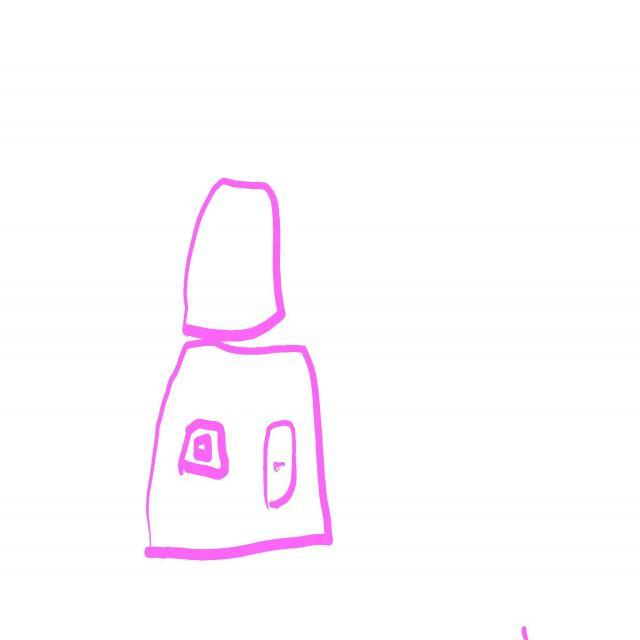door: (265, 421, 297, 509)
house: (145, 178, 333, 560)
roof: (183, 178, 283, 341)
wall: (146, 342, 332, 559)
window: (178, 420, 229, 481)
